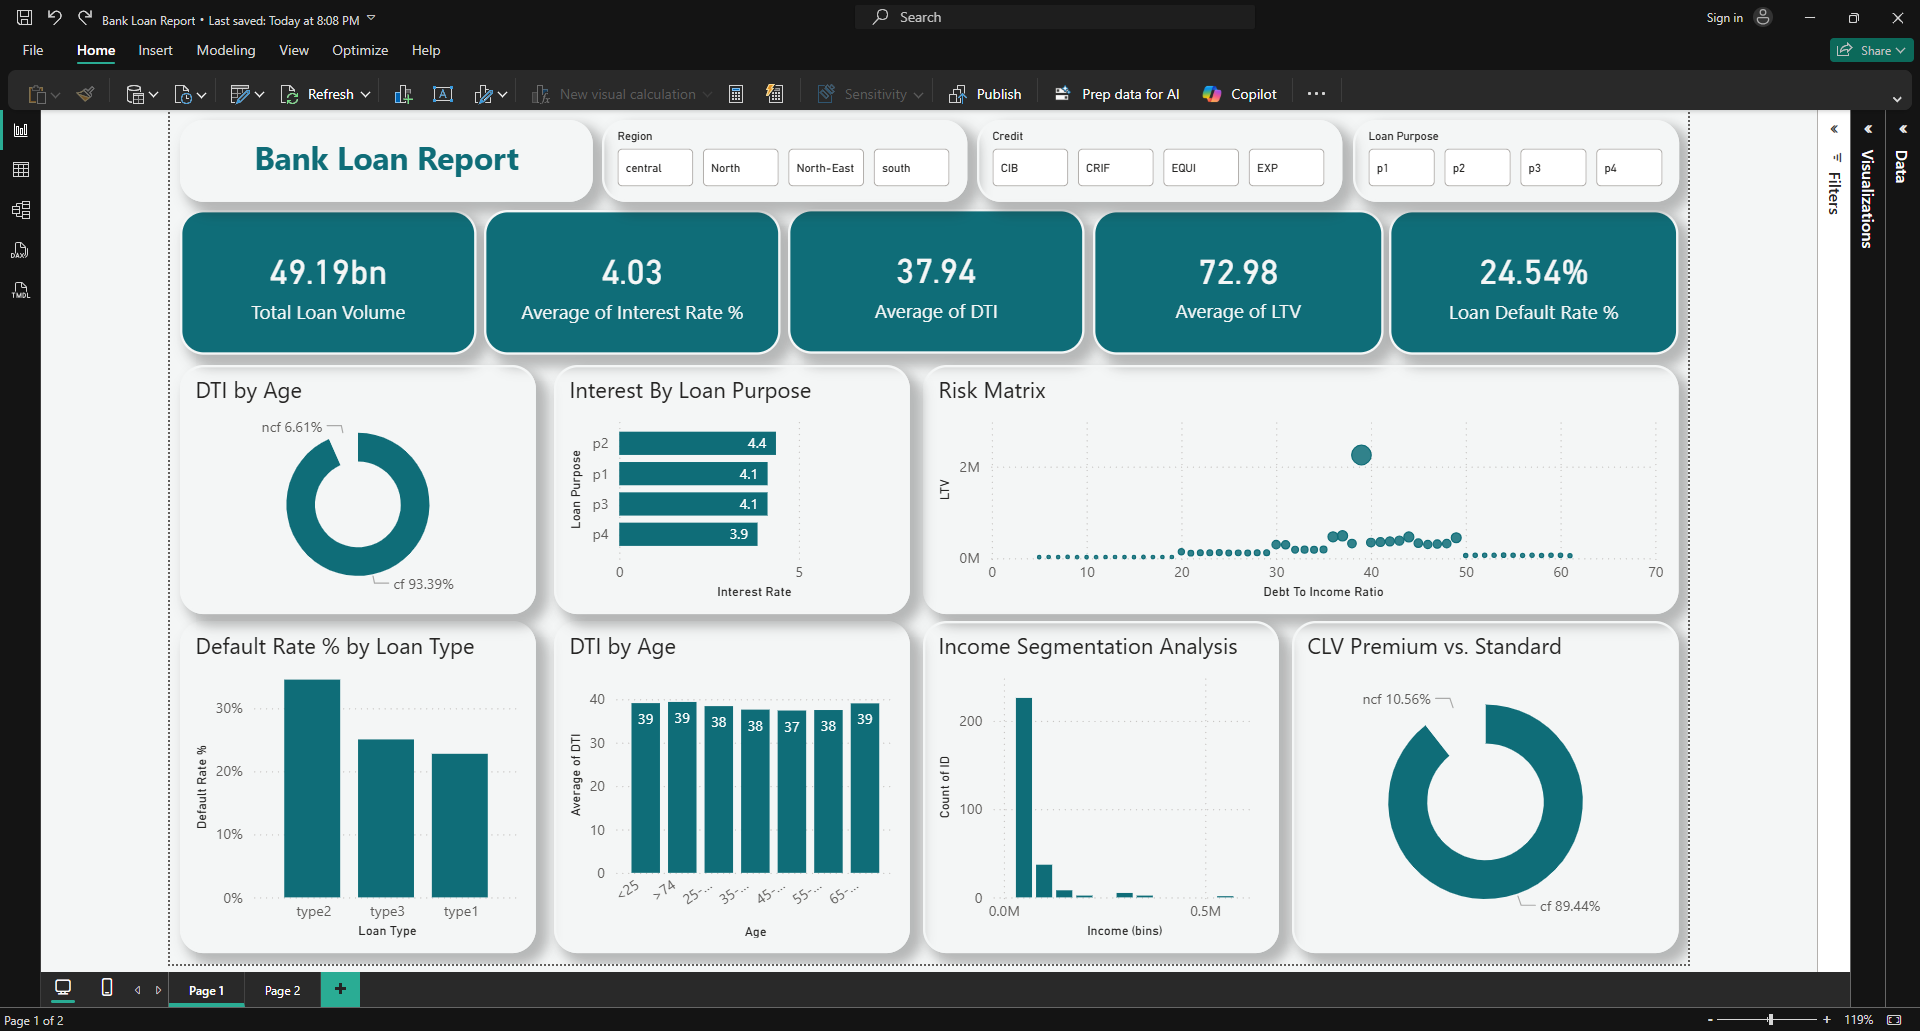

The dashboard page shown, as its layout file describes it:
{"tool":"powerbi","page":{"name":"Page 1","canvas":[1280,720],"ordinal":0},"visuals":[{"type":"clusteredColumnChart","fields":{"Y":["Loan.Default Rate %"],"Category":["Loan.Loan_type"]},"box":[8.6,430.4,300,280],"z":0},{"type":"card","title":"DTI by Age","fields":{"Values":["Sum(Loan.Loan_amount)"]},"box":[8.6,84.5,250.1,122.5],"z":1000},{"type":"textbox","box":[8.4,8.4,348.2,69.1],"z":2000},{"type":"card","title":"DTI by Age","fields":{"Values":["Avg(Loan.Rate_of_interest)"]},"box":[264.8,84.5,250.1,122.5],"z":3000},{"type":"card","title":"DTI by Age","fields":{"Values":["Avg(Loan.Dtir1)"]},"box":[521,83.7,250.1,122.5],"z":4000},{"type":"card","title":"DTI by Age","fields":{"Values":["Avg(Loan.LTV)"]},"box":[778,84.5,245,121.6],"z":5000},{"type":"card","title":"DTI by Age","fields":{"Values":["Loan.Default Rate %"]},"box":[1028.1,84.5,244.1,122.5],"z":6000},{"type":"clusteredColumnChart","title":"DTI by Age","fields":{"Category":["Loan.Age"],"Y":["Avg(Loan.Dtir1)"]},"box":[323.5,430.4,300.2,280.3],"z":7000},{"type":"scatterChart","title":"Risk Matrix","fields":{"Size":["CountNonNull(Loan.Loan_limit)"],"Y":["Sum(Loan.LTV)"],"X":["Loan.Dtir1"]},"box":[634.8,215,637.4,209.9],"z":8000},{"type":"donutChart","title":"DTI by Age","fields":{"Category":["Loan.Loan_limit"],"Y":["CountNonNull(Loan.Loan_limit)"]},"box":[8.6,214.8,300,210],"z":9000},{"type":"clusteredBarChart","title":"Interest By Loan Purpose","fields":{"Category":["Loan.Loan_purpose"],"Y":["Avg(Loan.Rate_of_interest)"]},"box":[323.5,214.8,300.2,209.6],"z":10000},{"type":"clusteredColumnChart","title":"Income Segmentation Analysis","fields":{"Category":["Loan.Income (bins)"],"Y":["Count(Loan.ID)"]},"box":[634.8,430.4,300,280],"z":11000},{"type":"donutChart","title":"CLV Premium vs. Standard","fields":{"Category":["Loan.Loan_limit"],"Y":["Loan.Estimated Lifetime Value"]},"box":[945.9,430.8,326.3,279.9],"z":12000},{"type":"advancedSlicerVisual","fields":{"Values":["Loan.Region"]},"box":[364.2,8.4,307.7,69.1],"z":13000},{"type":"advancedSlicerVisual","fields":{"Values":["Loan.Credit_type"]},"box":[680.4,8.4,307.7,69.1],"z":14000},{"type":"advancedSlicerVisual","fields":{"Values":["Loan.Loan_purpose"]},"box":[997.4,8.4,274.8,69.1],"z":15000}]}

Visuals, with their boxes on the page's 1280x720 design canvas (x1, y1, x2, y2). These are canvas units, not pixel positions in the 1920x1031 screenshot, which may show the page scaled, cropped or inside an application window:
clusteredColumnChart - Loan.Default Rate % x Loan.Loan_type: BBox(9, 430, 309, 710)
"DTI by Age" card: BBox(9, 84, 259, 207)
textbox: BBox(8, 8, 357, 78)
"DTI by Age" card: BBox(265, 84, 515, 207)
"DTI by Age" card: BBox(521, 84, 771, 206)
"DTI by Age" card: BBox(778, 84, 1023, 206)
"DTI by Age" card: BBox(1028, 84, 1272, 207)
"DTI by Age" clusteredColumnChart: BBox(324, 430, 624, 711)
"Risk Matrix" scatterChart: BBox(635, 215, 1272, 425)
"DTI by Age" donutChart: BBox(9, 215, 309, 425)
"Interest By Loan Purpose" clusteredBarChart: BBox(324, 215, 624, 424)
"Income Segmentation Analysis" clusteredColumnChart: BBox(635, 430, 935, 710)
"CLV Premium vs. Standard" donutChart: BBox(946, 431, 1272, 711)
advancedSlicerVisual - Loan.Region: BBox(364, 8, 672, 78)
advancedSlicerVisual - Loan.Credit_type: BBox(680, 8, 988, 78)
advancedSlicerVisual - Loan.Loan_purpose: BBox(997, 8, 1272, 78)
